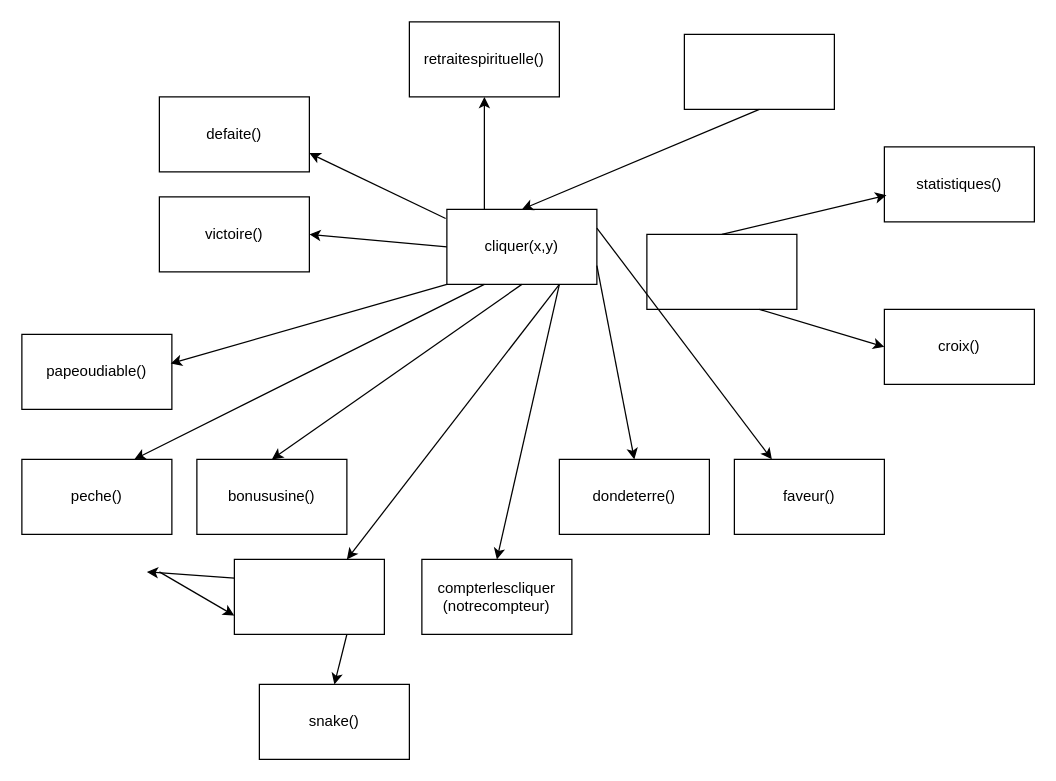
The diagram is 1056 pixels wide and 781 high, and some of its shapes have lost their labels. Each missing label, with the centre of its shape:
"dessinercadre()" belongs at point 721,271.
"jeu()" belongs at point 758,71.
"messagevictoire (findujeu)" belongs at point 308,596.
